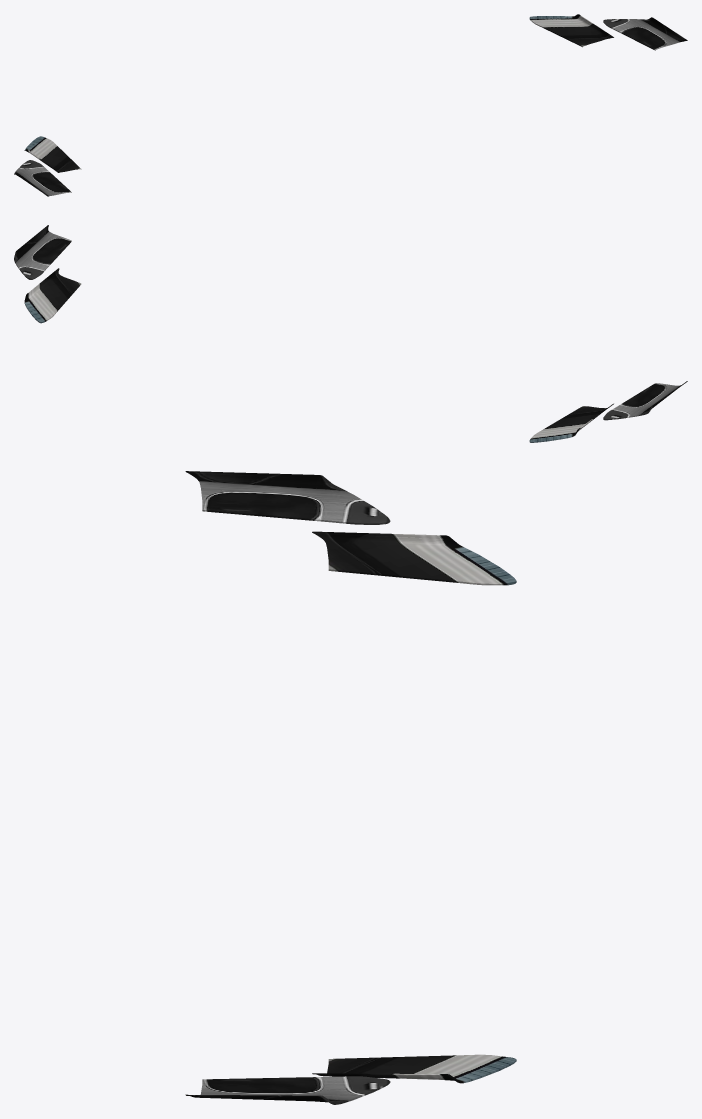
File: blue_shape.glb
3 views of the same model, one above another, from view 1: azimuth 30°, elevation 25°; view 2: azimuth 150°, elevation 25°; view 3: azimuth 270°, elevation 25° (orthographic). The views are drawn at different scales.
Visible parts, largest first — view 1: blue_shape; view 2: blue_shape; view 3: blue_shape.
Boxes of the visible parts, <box> form: blue_shape: <box>14,14,687,196</box>; blue_shape: <box>14,225,687,442</box>; blue_shape: <box>185,471,516,1104</box>.
Bounding box in the file's own units: 1.47 × 0.0424 × 0.3286.
1 material, 1 textured.
